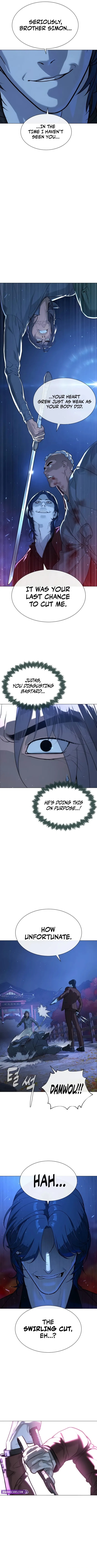bubbles: (10, 562, 87, 624), (14, 907, 83, 963), (12, 1, 80, 55), (32, 377, 97, 433), (1, 659, 68, 713), (30, 780, 97, 833), (14, 1305, 83, 1354), (18, 1159, 80, 1208), (39, 1065, 94, 1115), (19, 108, 76, 151)
